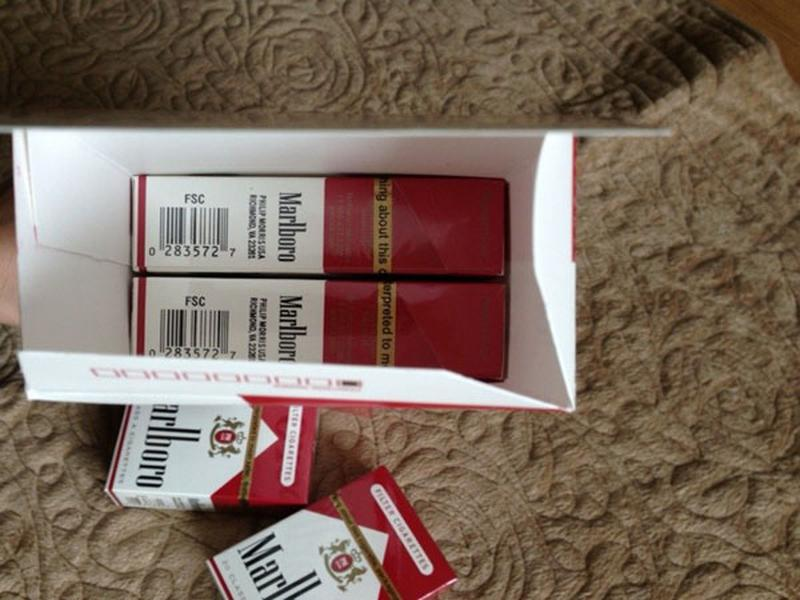marlboro_red: (222, 481, 446, 599), (122, 402, 309, 499)
